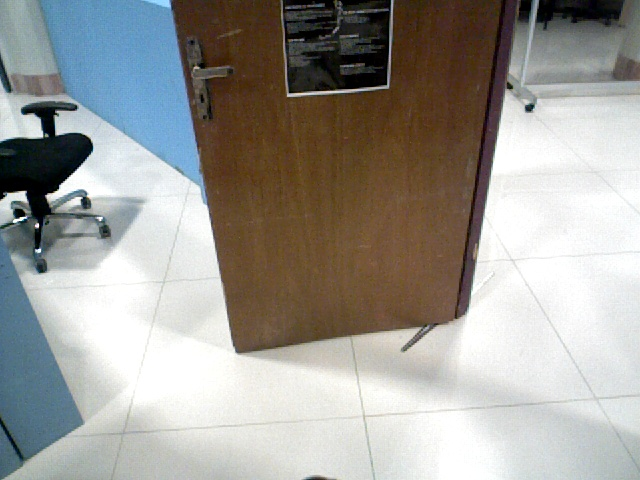door_handle: (180, 35, 239, 129)
